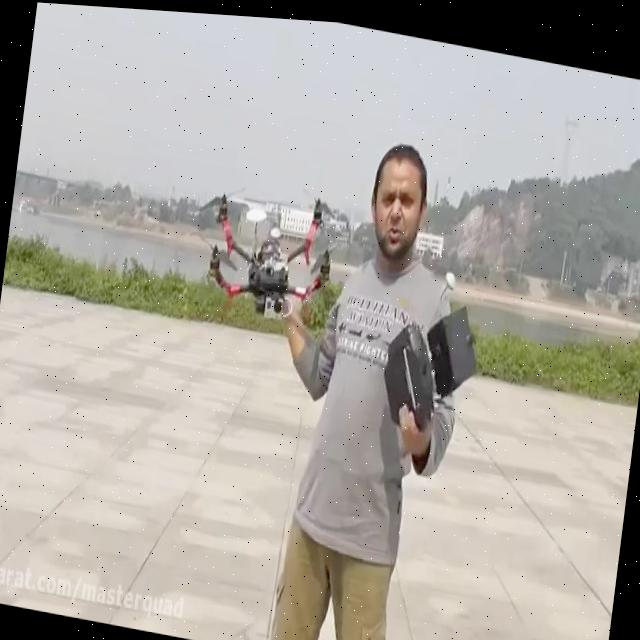drone: (185, 161, 348, 329)
